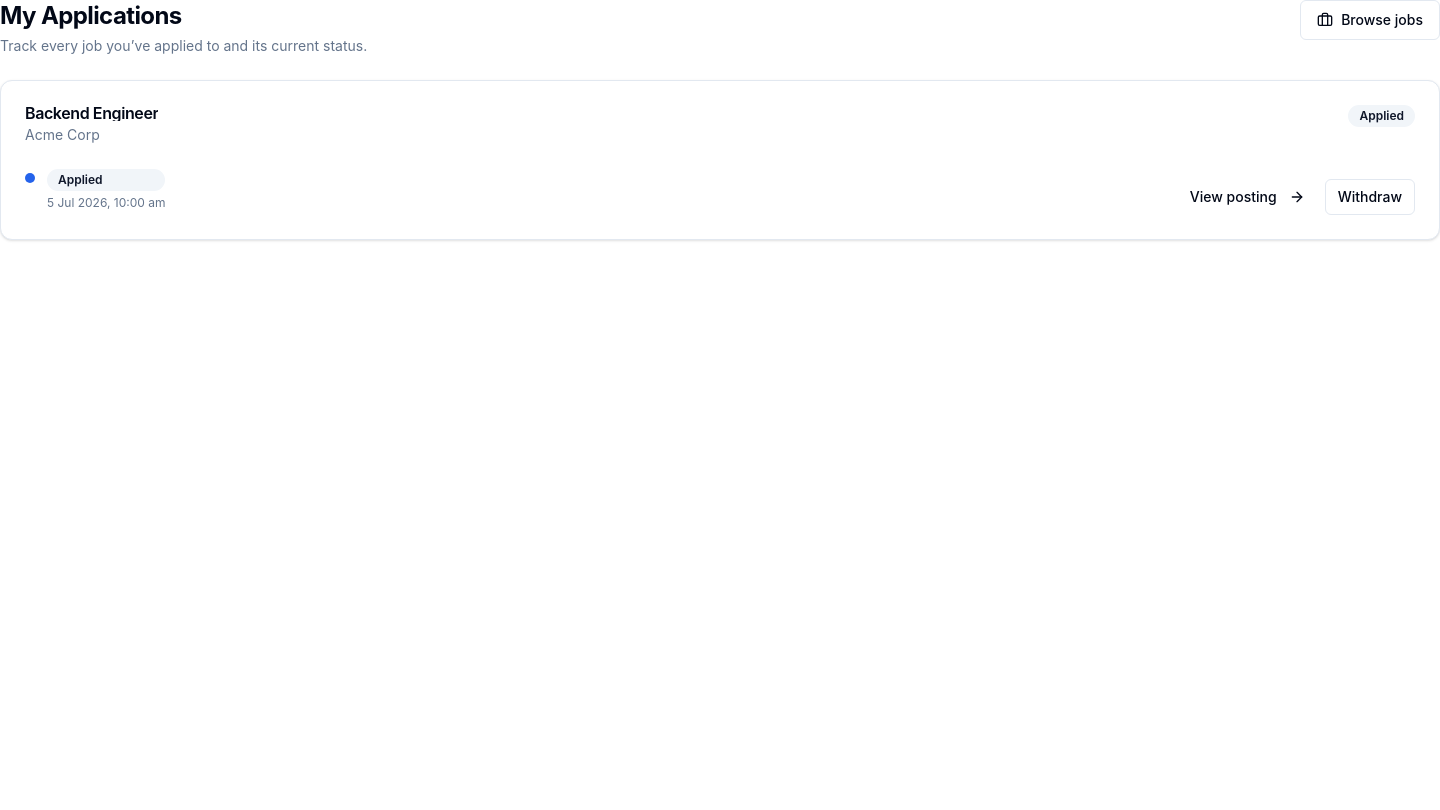
MyApplicationsPage — withdraw flow › surfaces a backend 409/422 rejection as a readable error
Click the button "Withdraw" at (1370, 197), box [1325, 179, 1415, 215]
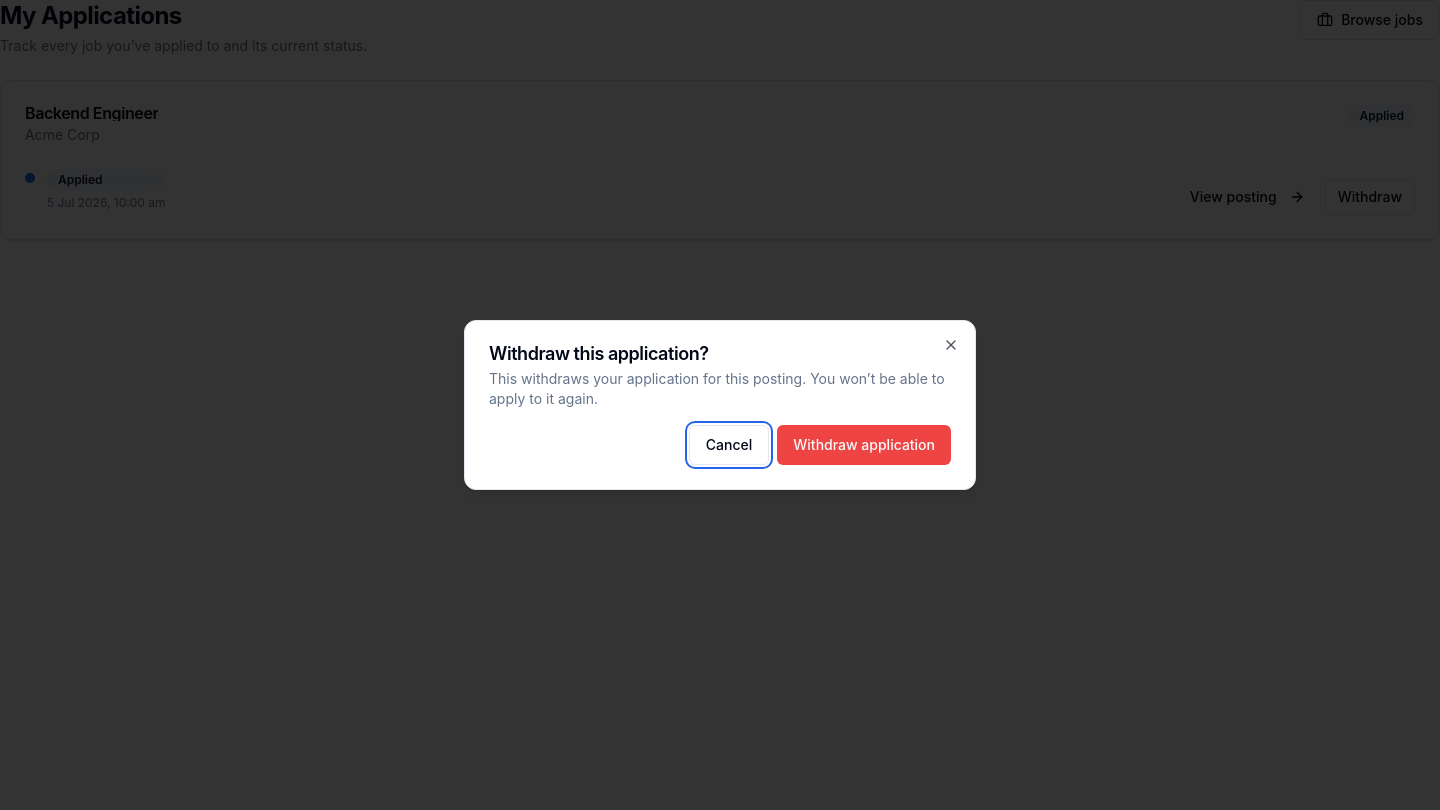
Click the button "Withdraw application" at (864, 445), box [777, 425, 951, 465]
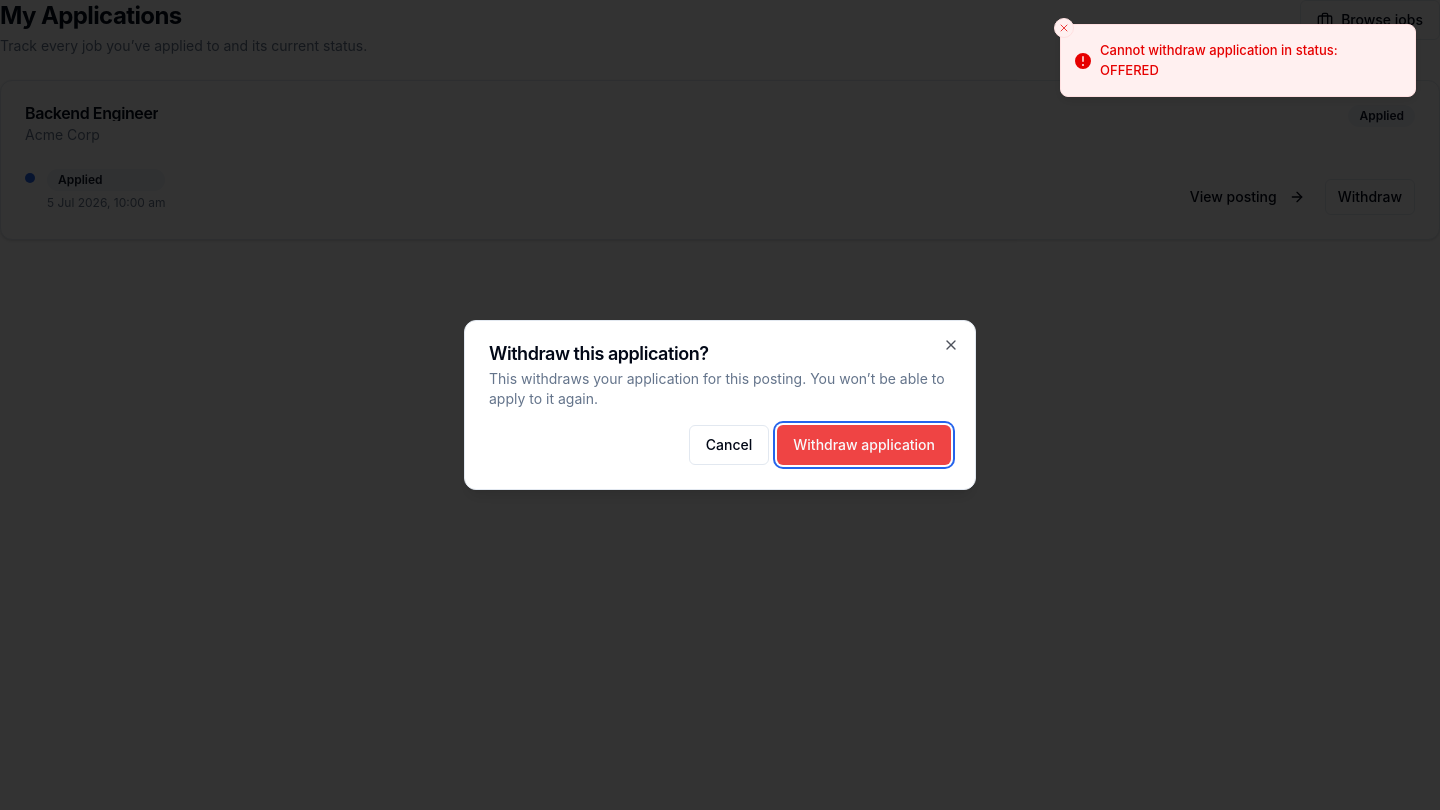
expect the text "Cannot withdraw application in status: OFFERED" is shown: met, box [1100, 42, 1338, 78]
